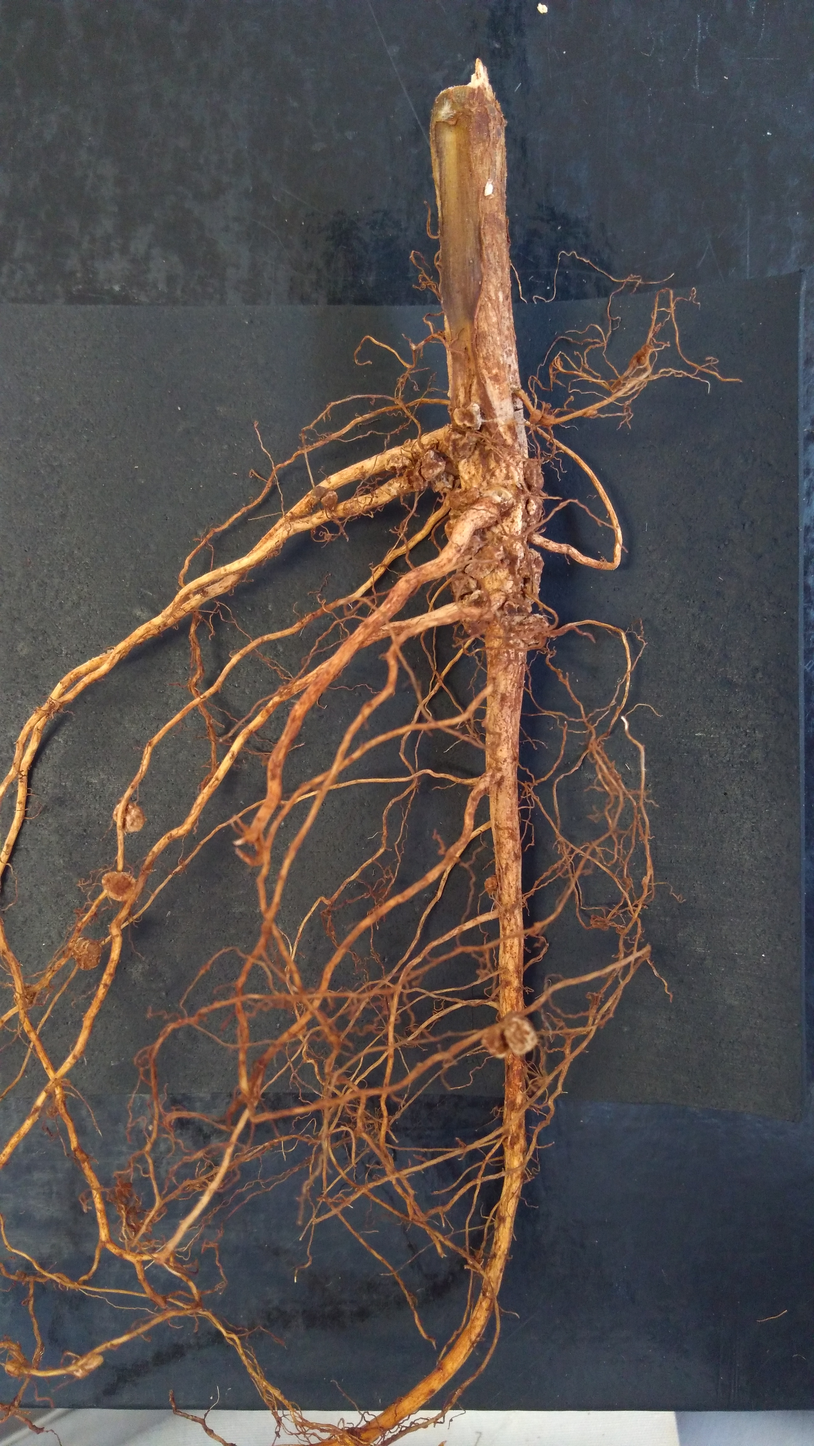nodule: (501, 611, 553, 655), (517, 545, 554, 602), (503, 1006, 542, 1058), (67, 932, 108, 977), (98, 865, 142, 906), (462, 545, 505, 582), (479, 1020, 512, 1062), (455, 456, 491, 494), (110, 799, 148, 834), (448, 400, 486, 435), (68, 1351, 109, 1381), (443, 432, 480, 465), (446, 566, 478, 601), (456, 586, 492, 617), (440, 487, 486, 511), (418, 447, 446, 484), (520, 456, 548, 492), (384, 453, 417, 475), (523, 494, 546, 524), (403, 468, 429, 494), (4, 1355, 30, 1381), (429, 471, 456, 494), (485, 587, 506, 613), (481, 874, 502, 897), (319, 489, 339, 513), (589, 913, 612, 933), (526, 406, 542, 429), (581, 408, 598, 417)
